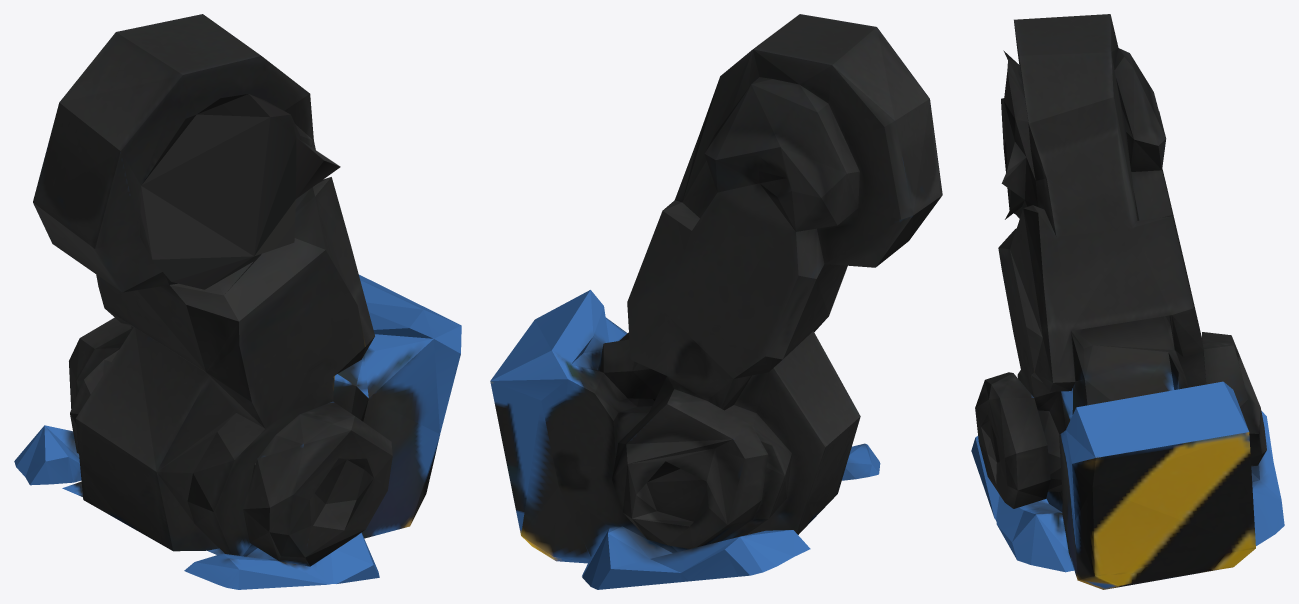
The model's file is SM_HeavyDebris_Thigh_L.fbx.
3 views of the same model, side by side, from view 1: azimuth 30°, elevation 25°; view 2: azimuth 150°, elevation 25°; view 3: azimuth 270°, elevation 25° (orthographic). The views are drawn at different scales.
Visible parts, largest first — view 1: SM_HeavyDebris_Thigh_L; view 2: SM_HeavyDebris_Thigh_L; view 3: SM_HeavyDebris_Thigh_L.
Boxes of the visible parts, x1=… form: SM_HeavyDebris_Thigh_L: x1=14, y1=14, x2=461, y2=589; SM_HeavyDebris_Thigh_L: x1=490, y1=14, x2=942, y2=589; SM_HeavyDebris_Thigh_L: x1=971, y1=14, x2=1284, y2=589.
Size of the model in its own units: 66.89 by 84.89 by 51.56.
Materials: 1 (1 with a texture image).
